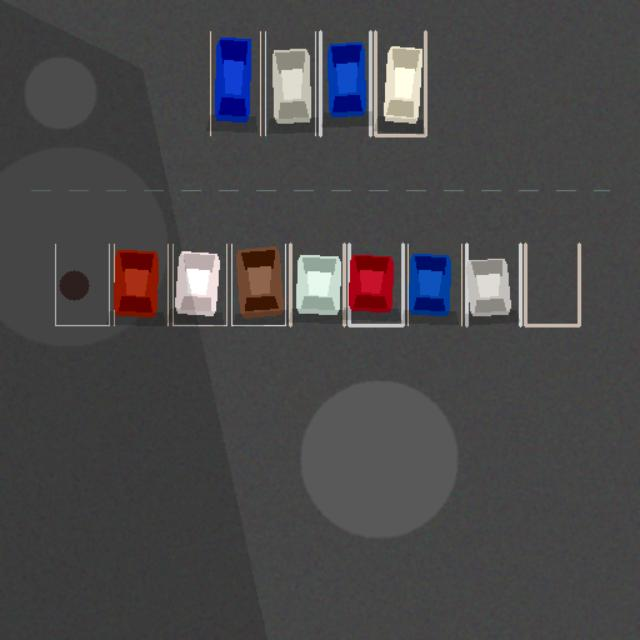space-empty: (55, 244, 109, 325), (525, 244, 579, 325)
space-occupied: (210, 31, 260, 135), (265, 31, 315, 135), (320, 31, 370, 135), (375, 31, 425, 135), (114, 244, 168, 325), (172, 244, 226, 325), (231, 244, 285, 325), (290, 244, 344, 325), (466, 244, 520, 325), (349, 244, 402, 325), (408, 244, 461, 325)
